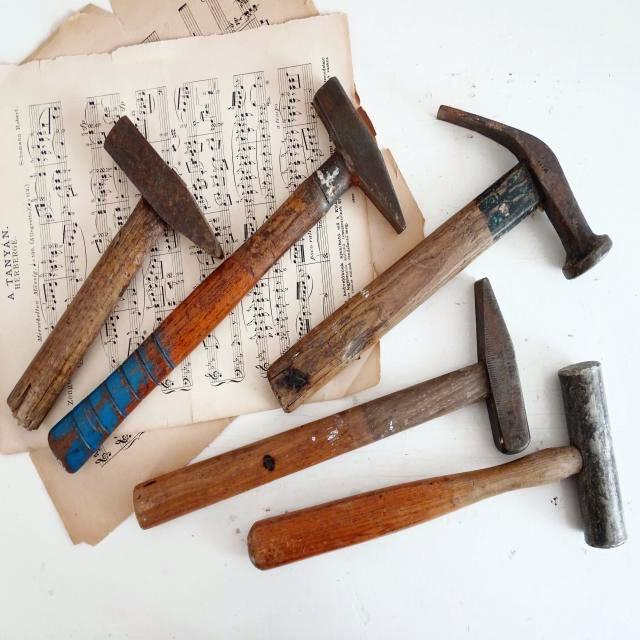hammer: (41, 71, 409, 481), (261, 102, 615, 424), (127, 273, 536, 536), (245, 358, 630, 587), (4, 112, 228, 440)
